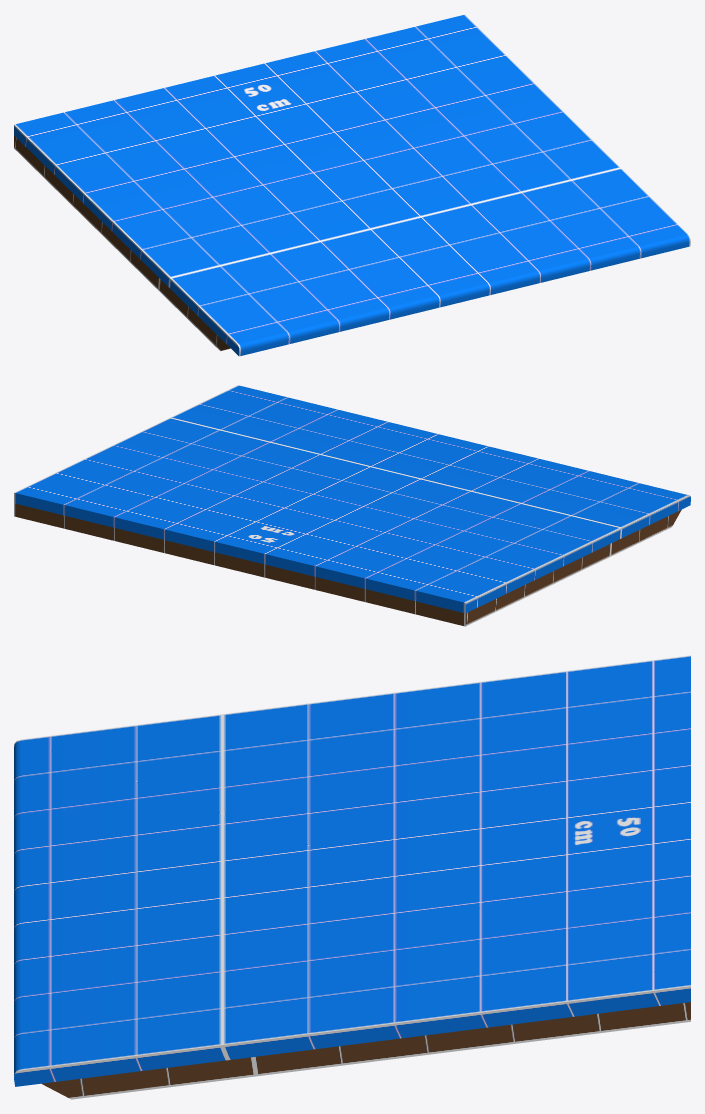
Rendered from M01Roof01_6.FBX.
The picture shows the model from 3 angles, top to bottom: view 1: azimuth 30°, elevation 25°; view 2: azimuth 150°, elevation 25°; view 3: azimuth 270°, elevation 25°; orthographic projection. The views are drawn at different scales.
Parts seen in each view (by area): view 1: M01Roof01_6; view 2: M01Roof01_6; view 3: M01Roof01_6.
Boxes of the visible parts, x1=… form: M01Roof01_6: x1=14, y1=14, x2=690, y2=356; M01Roof01_6: x1=14, y1=385, x2=690, y2=626; M01Roof01_6: x1=14, y1=655, x2=690, y2=1099.
Size of what is drawn, in the model's own units: 4.5 by 0.7199 by 3.89.
